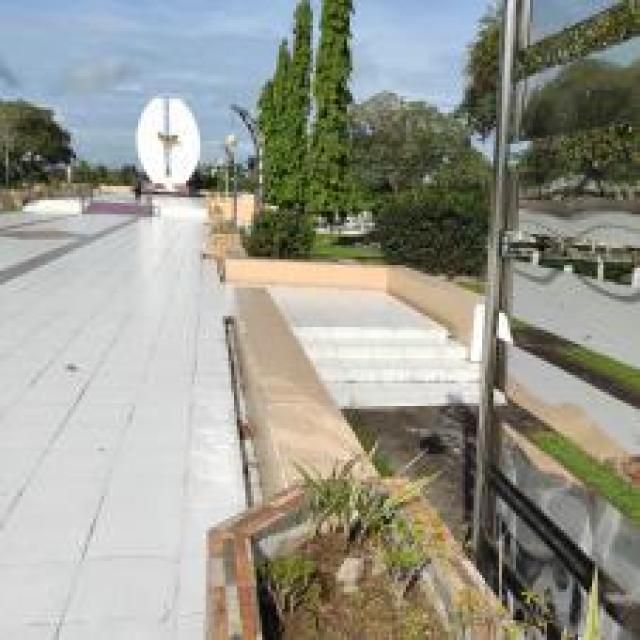upstair: (289, 308, 486, 413)
